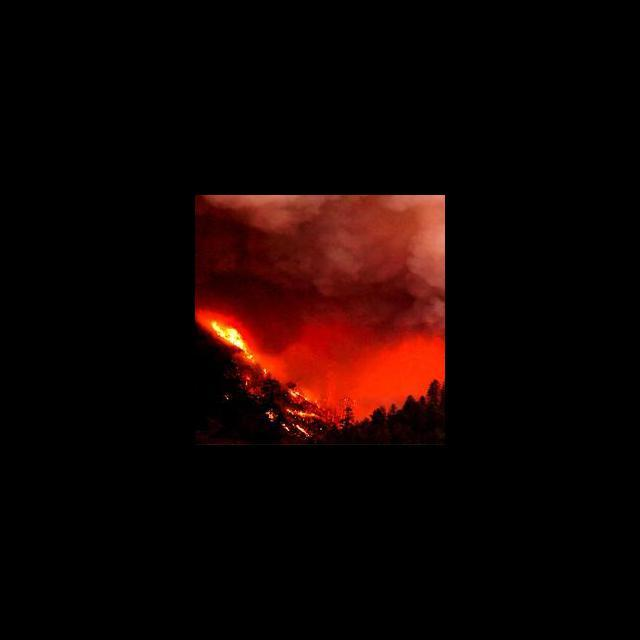Fire: (201, 309, 258, 360)
Smoke: (196, 195, 442, 304)
